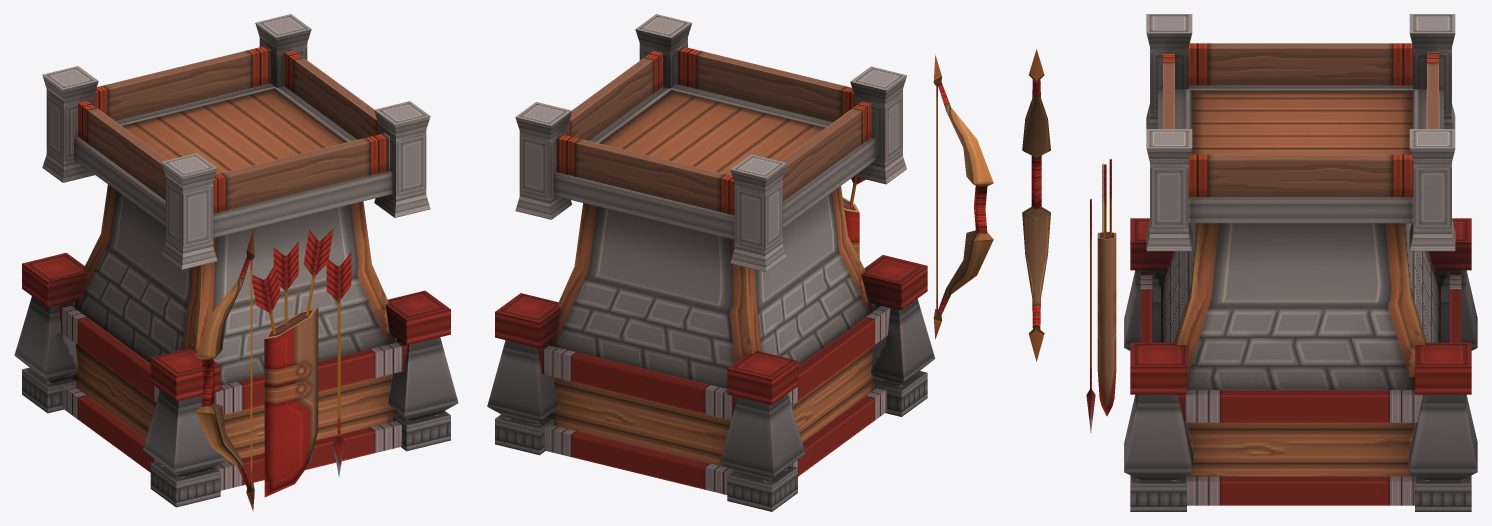
The model's file is ArcherTower_Level2_F.FBX.
The picture shows the model from 3 angles, left to right: view 1: azimuth 30°, elevation 25°; view 2: azimuth 150°, elevation 25°; view 3: azimuth 270°, elevation 25°; orthographic projection. The views are drawn at different scales.
Parts seen in each view (by area): view 1: ArcherTower_Level005, ArcherTower_Quiver002, ArcherTower_Bow002, ArcherTower_Level2_F; view 2: ArcherTower_Level005, ArcherTower_Bow002, ArcherTower_Quiver002; view 3: ArcherTower_Level005, ArcherTower_Bow002, ArcherTower_Quiver002, ArcherTower_Level2_F.
Boxes of the visible parts, <box> form: ArcherTower_Level005: <box>14,14,458,507</box>; ArcherTower_Quiver002: <box>252,229,333,497</box>; ArcherTower_Bow002: <box>195,229,254,511</box>; ArcherTower_Level2_F: <box>326,252,351,477</box>; ArcherTower_Level005: <box>487,14,935,511</box>; ArcherTower_Bow002: <box>933,55,993,339</box>; ArcherTower_Quiver002: <box>842,176,865,258</box>; ArcherTower_Level005: <box>1124,14,1477,511</box>; ArcherTower_Bow002: <box>1022,49,1050,361</box>; ArcherTower_Quiver002: <box>1097,159,1116,416</box>; ArcherTower_Level2_F: <box>1086,199,1095,432</box>.
Size of the model in its own units: 49.04 by 50.07 by 57.72.
